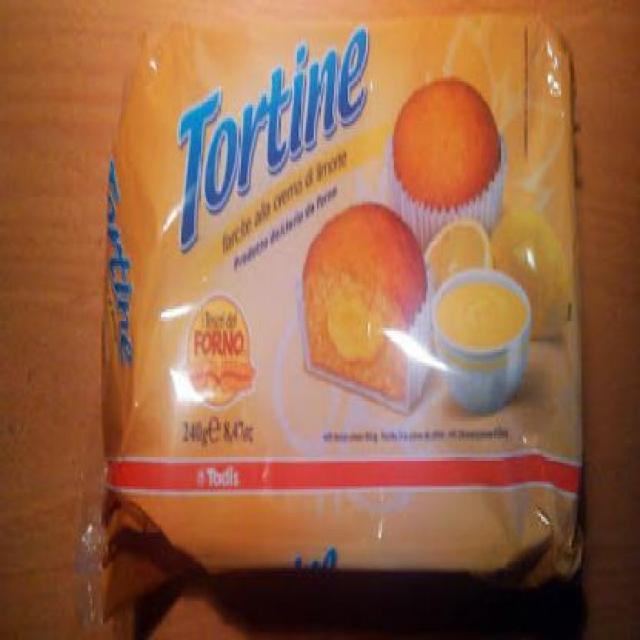Merendine: (95, 8, 587, 600)
